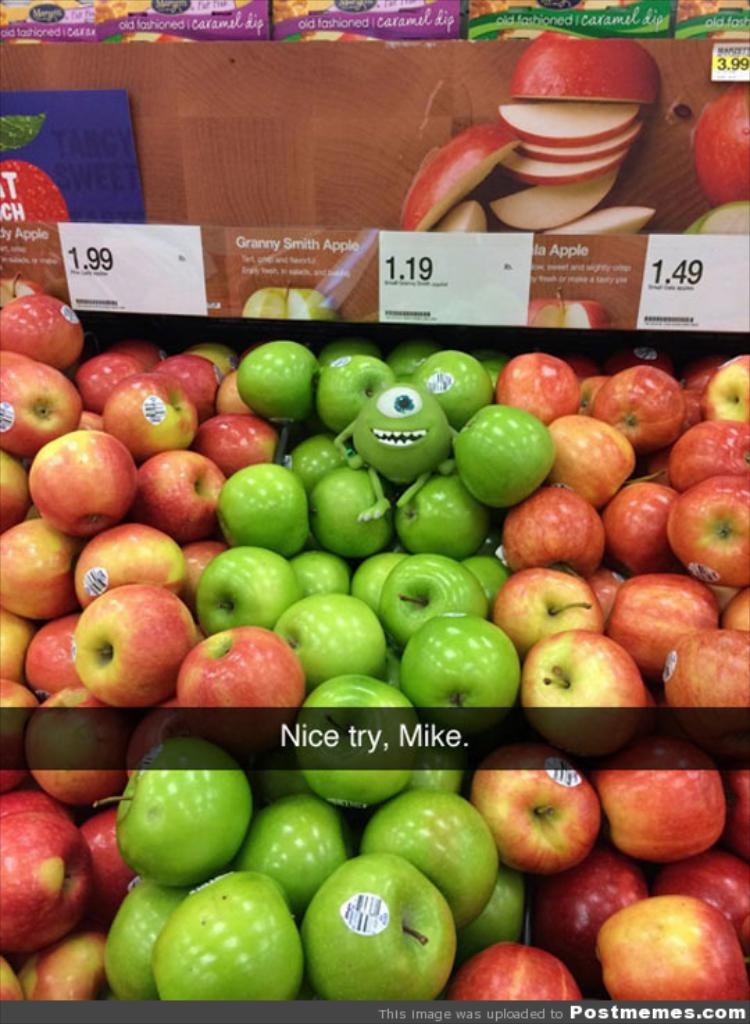Apple: (0, 293, 747, 1000), (399, 29, 659, 236), (231, 337, 320, 429), (694, 73, 748, 208), (0, 155, 72, 223), (243, 283, 345, 323), (529, 287, 613, 327), (683, 200, 748, 234)
